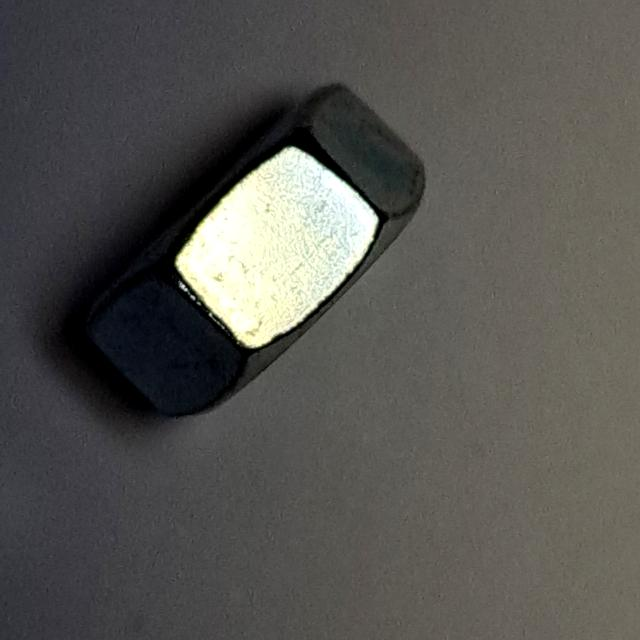Side_Excellent: (62, 72, 444, 427)
